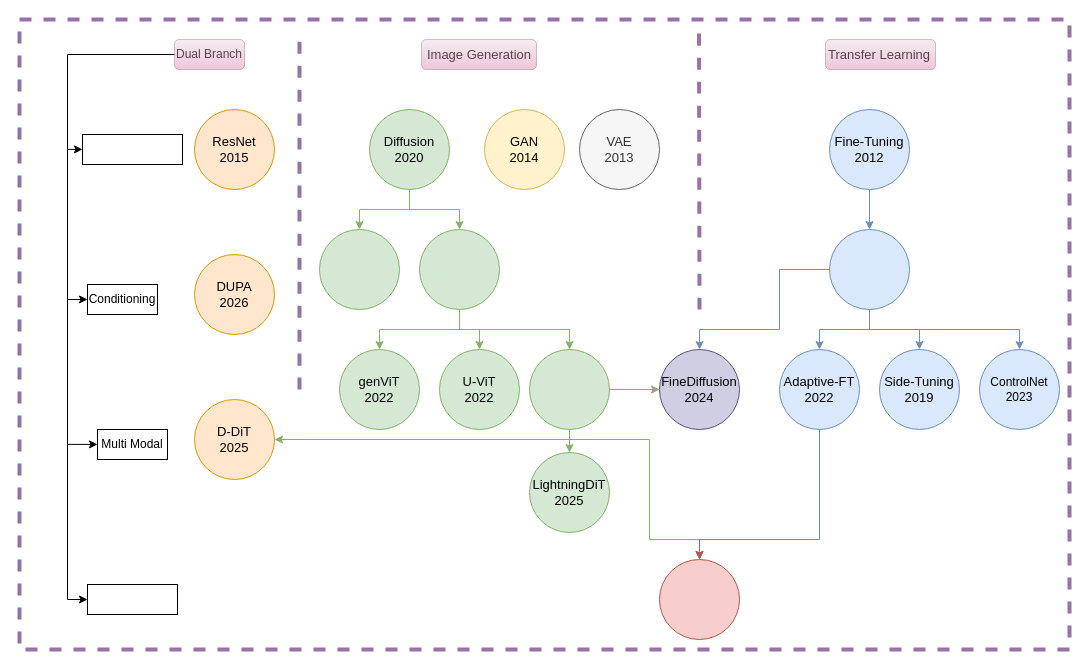
This 1088x668 diagram has some shape labels left out. Each missing label, with the box of its shape:
DiT 2022: (528, 348, 610, 430)
DuoDiT 2026: (658, 558, 740, 640)
PEFT 2019: (828, 228, 910, 310)
Skip Connection: (82, 134, 182, 164)
Spatial Spliting: (86, 584, 178, 614)
Transformer 2022: (418, 228, 500, 310)
U-NET 2020: (318, 228, 400, 310)
